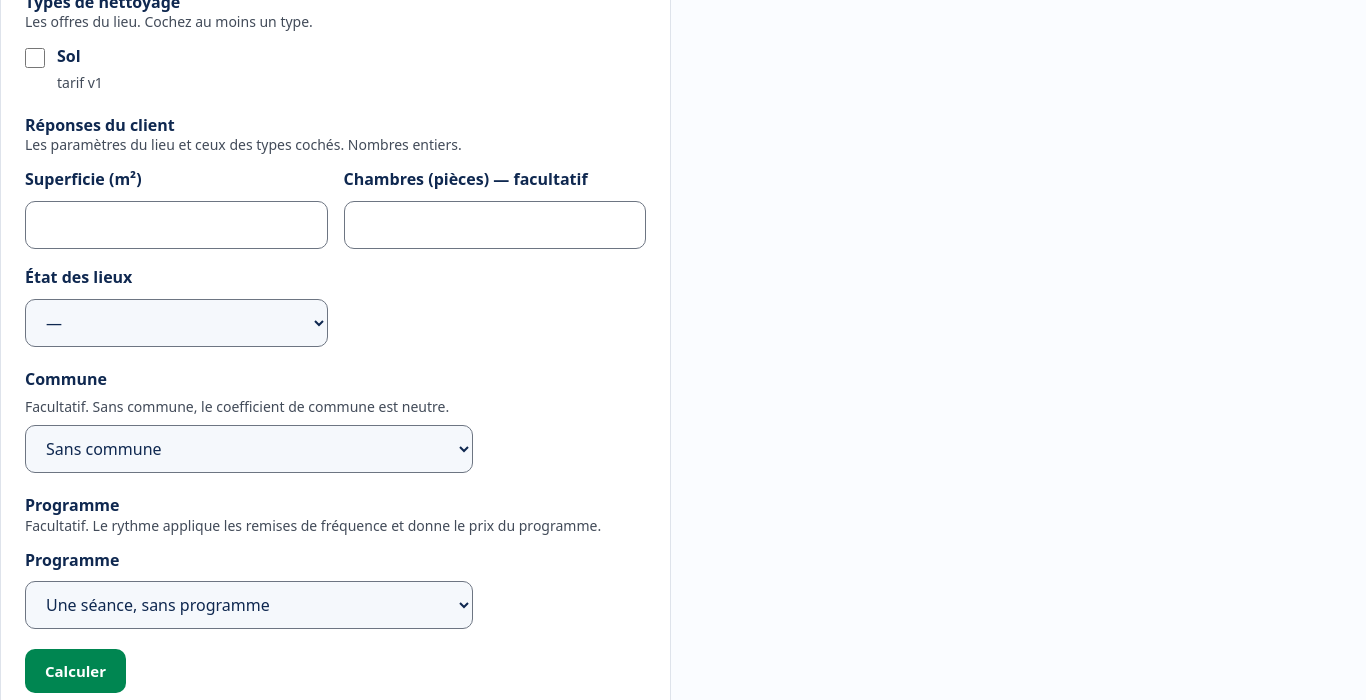
Test: simulateur › contrôles locaux : type de nettoyage et programme hebdomadaire incomplet
(page scrolled)
Expected: the checkbox labelled "Sol tarif v1" is shown, x1=25 y1=48 x2=45 y2=68
Select "Chaque semaine (ou toutes les N semaines)" in the dropdown labelled "Programme" at (249, 605), box x1=25 y1=581 x2=473 y2=629
(page scrolled)
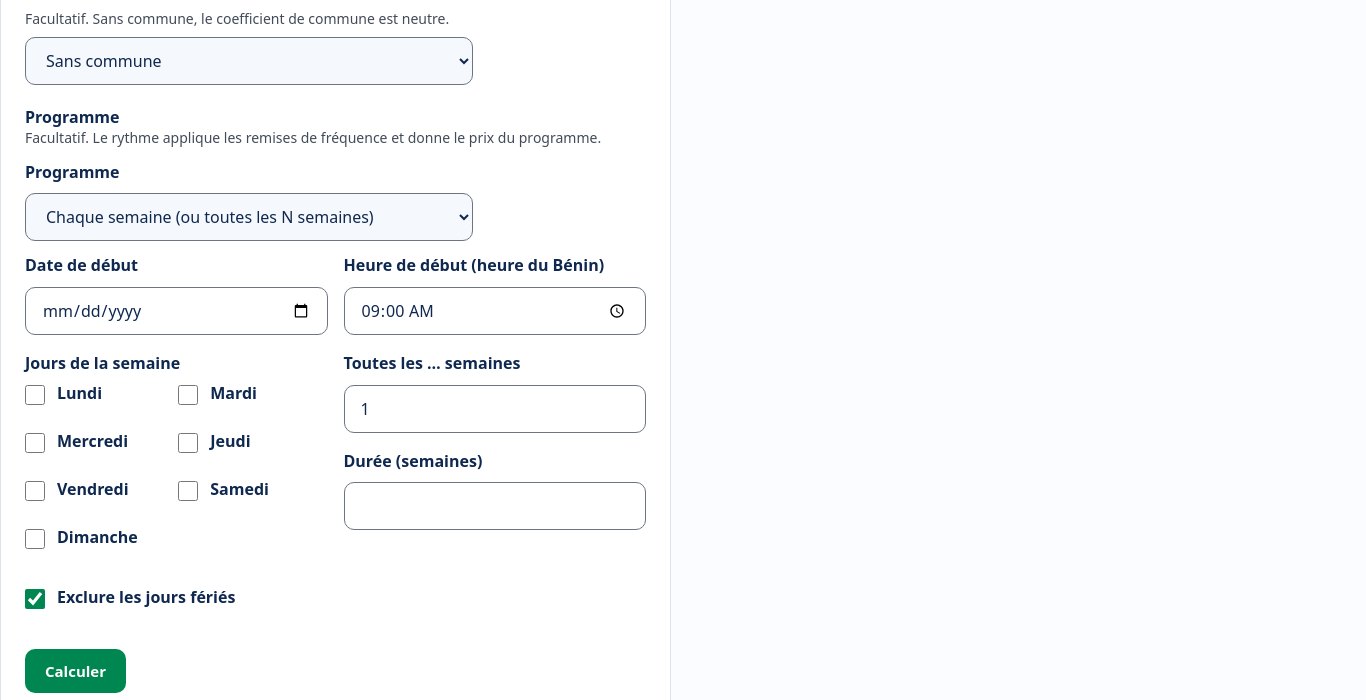
Click the button "Calculer" at (76, 670), box x1=25 y1=648 x2=126 y2=692
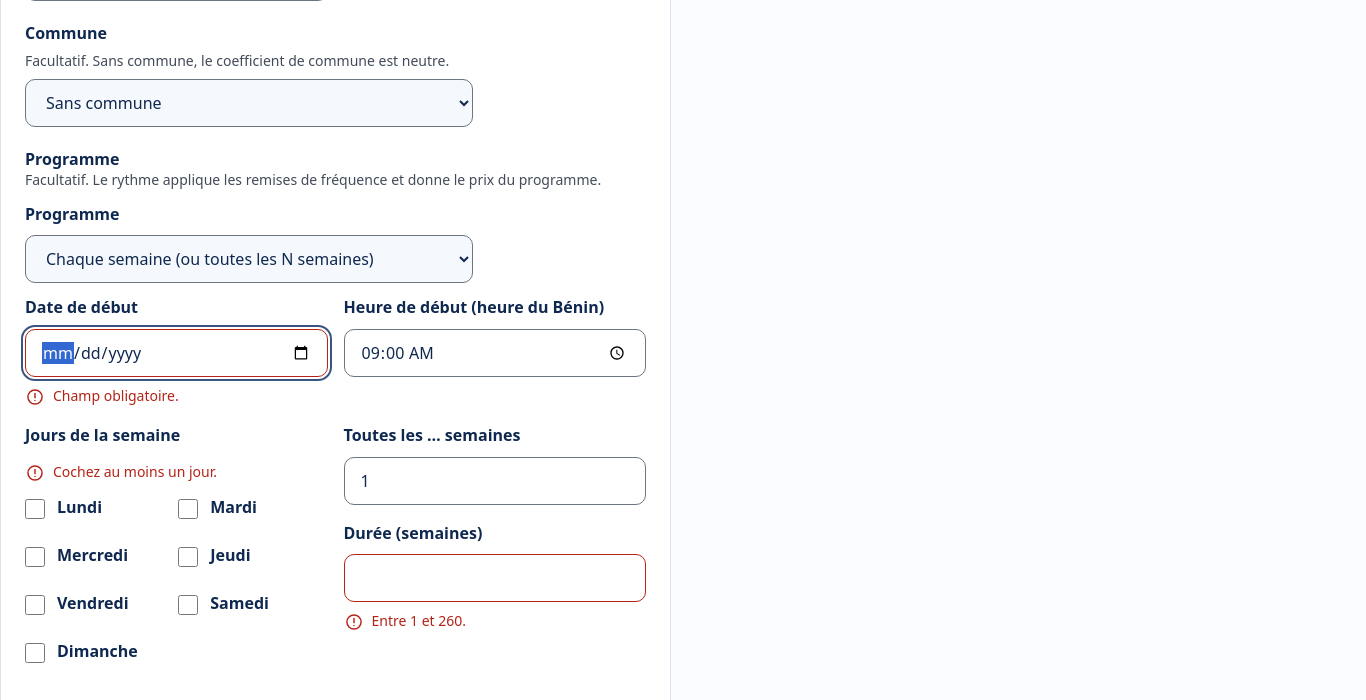
Result: the text "Cochez au moins un jour." is shown at x1=53 y1=460 x2=217 y2=482
